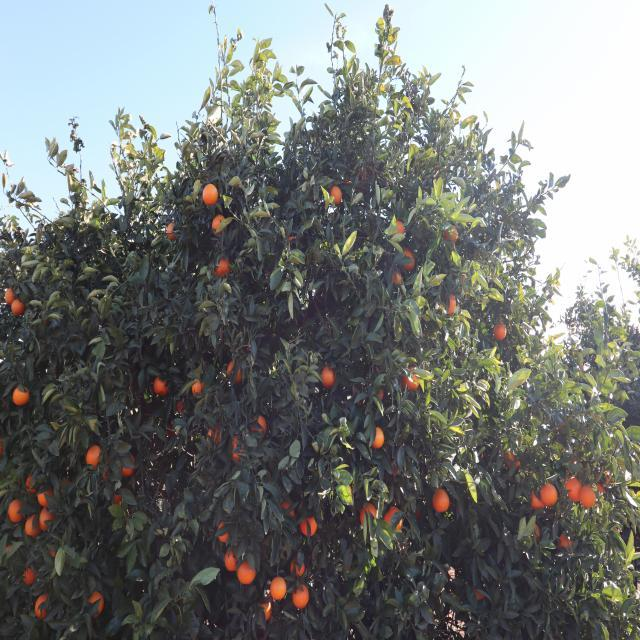Jeruk Sudah Matang: (86, 590, 104, 620), (383, 506, 402, 532), (238, 562, 256, 586), (432, 489, 450, 512), (402, 368, 420, 390), (540, 484, 558, 506), (292, 586, 309, 609), (8, 498, 24, 522), (86, 444, 102, 468), (360, 503, 378, 524), (25, 513, 41, 536), (120, 453, 136, 476), (402, 246, 416, 272), (300, 516, 318, 536), (40, 508, 56, 530), (270, 578, 286, 600), (580, 486, 596, 507), (566, 478, 580, 502), (203, 184, 218, 206), (212, 214, 226, 237), (13, 386, 30, 404), (37, 489, 54, 507), (290, 558, 306, 577), (228, 360, 242, 381), (35, 593, 47, 617), (218, 520, 230, 544), (280, 500, 296, 518), (506, 452, 522, 470), (154, 376, 168, 396), (258, 600, 272, 620), (372, 428, 384, 451), (530, 490, 545, 508), (224, 550, 237, 570), (322, 366, 335, 386), (443, 225, 458, 242), (22, 568, 36, 586), (216, 258, 230, 276), (11, 300, 26, 316), (330, 184, 342, 204), (557, 534, 573, 548), (192, 377, 204, 395), (390, 268, 402, 286), (4, 288, 16, 304), (448, 292, 456, 316), (258, 416, 268, 434), (494, 324, 506, 338), (27, 475, 36, 491), (397, 220, 405, 237), (112, 492, 121, 506), (168, 222, 175, 238)
